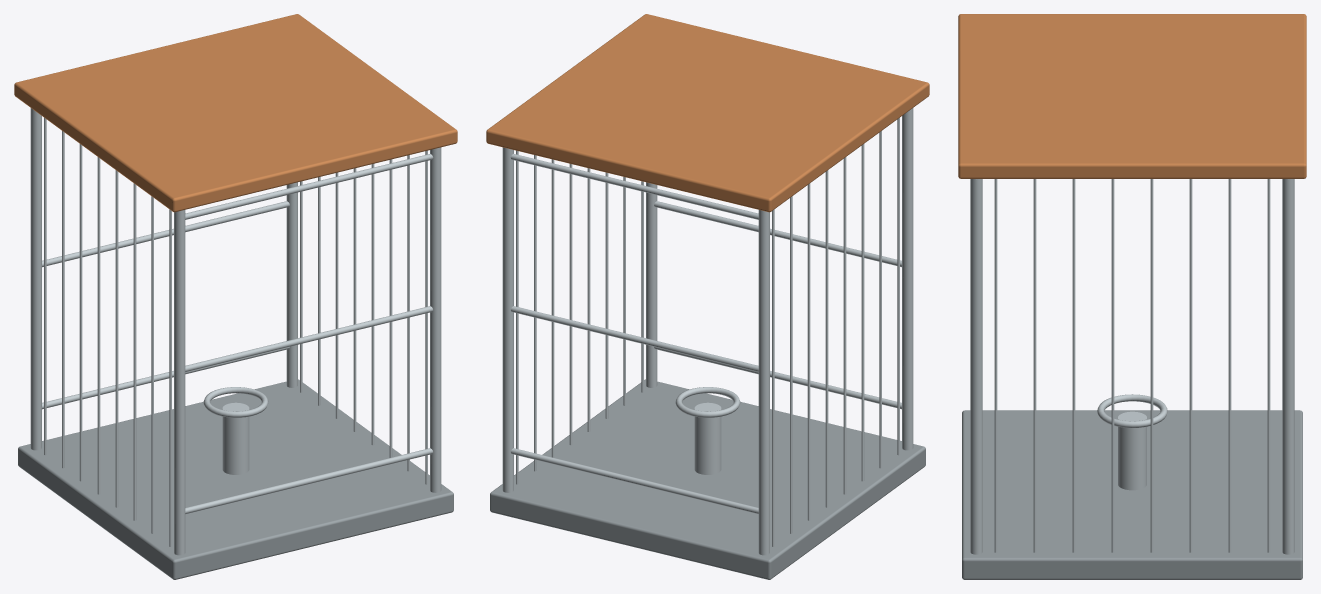
Rendered from abandoned-weather-station-and-storm-shelter-balloon-in-8fb4aaa2__31026.glb.
The picture shows the model from 3 angles, left to right: view 1: azimuth 30°, elevation 25°; view 2: azimuth 150°, elevation 25°; view 3: azimuth 270°, elevation 25°; orthographic projection. The views are drawn at different scales.
Visible parts, largest first — view 1: balloon-inflation-cage; view 2: balloon-inflation-cage; view 3: balloon-inflation-cage.
Part boxes in pixels (x1,y1,x2,y2): balloon-inflation-cage: [14, 14, 457, 579]; balloon-inflation-cage: [486, 14, 929, 579]; balloon-inflation-cage: [958, 14, 1306, 579].
Size of the model in its own units: 1.47 by 1.89 by 1.43.
